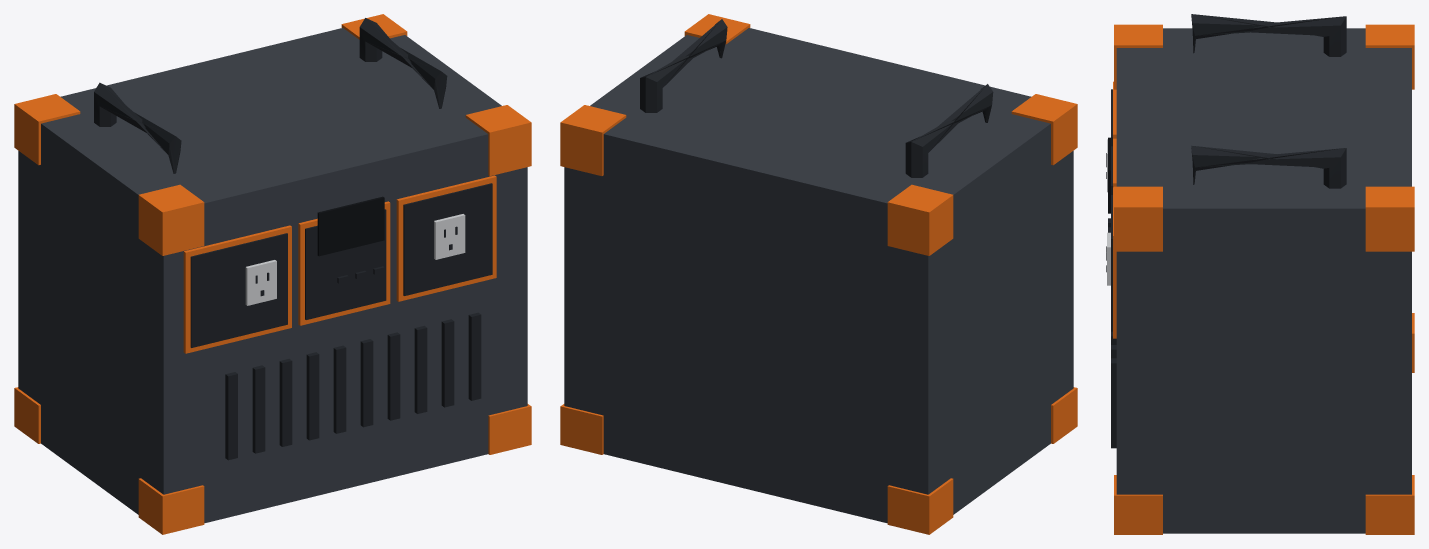
File: power_station_pecron_e3800lfp.far.glb
The picture shows the model from 3 angles, left to right: view 1: azimuth 30°, elevation 25°; view 2: azimuth 150°, elevation 25°; view 3: azimuth 270°, elevation 25°; orthographic projection.
Visible parts, largest first — view 1: power_station_pecron_e3800lfp; view 2: power_station_pecron_e3800lfp; view 3: power_station_pecron_e3800lfp.
Boxes of the visible parts, x1,y1,x2,y2 form: power_station_pecron_e3800lfp: (14,14,531,534); power_station_pecron_e3800lfp: (560,14,1077,534); power_station_pecron_e3800lfp: (1106,14,1414,534).
Size of the model in its own units: 0.4505 by 0.4179 by 0.3213.
